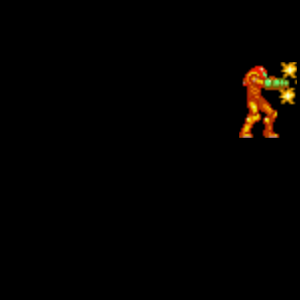Collectible: (239, 62, 297, 138)
